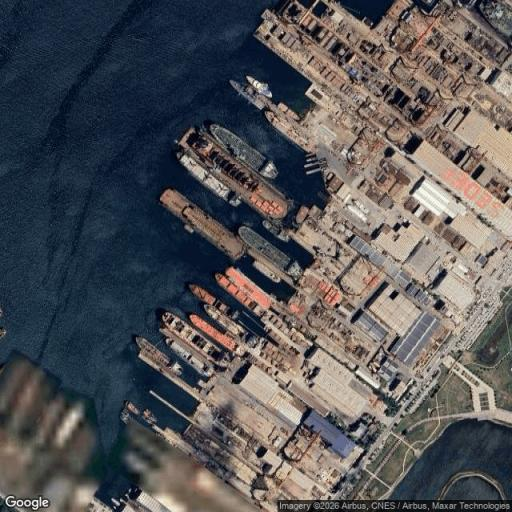ship: (179, 127, 289, 219), (160, 189, 244, 259), (162, 309, 232, 367), (209, 124, 277, 179), (176, 153, 241, 207), (238, 227, 304, 280), (215, 274, 266, 316), (265, 112, 314, 152), (136, 336, 183, 376), (166, 339, 214, 378), (189, 284, 240, 319), (189, 315, 236, 351), (204, 304, 247, 340), (478, 0, 511, 37), (229, 80, 267, 109), (253, 260, 280, 283), (263, 220, 290, 242), (246, 76, 271, 98), (277, 103, 300, 121), (295, 205, 309, 225), (142, 409, 157, 424), (124, 400, 139, 415), (120, 408, 130, 423), (184, 224, 194, 233), (0, 328, 7, 339), (0, 304, 3, 316)
